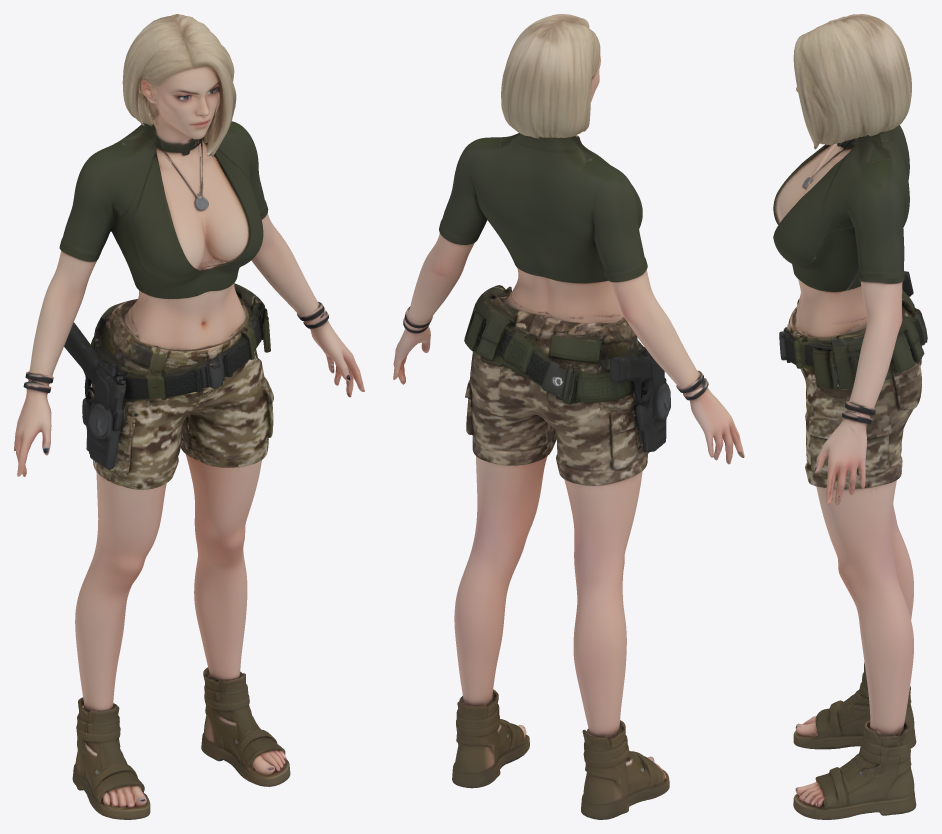
File: modern_tactical_female_character.glb
3 views of the same model, side by side, from view 1: azimuth 30°, elevation 25°; view 2: azimuth 150°, elevation 25°; view 3: azimuth 270°, elevation 25° (orthographic).
Parts seen in each view (by area): view 1: Object_4, Object_5, Object_6; view 2: Object_5, Object_4, Object_6; view 3: Object_5, Object_4, Object_6.
Part boxes in pixels (left/top/right/bottom): Object_4: left=14, top=32, right=339, bottom=819; Object_5: left=14, top=14, right=334, bottom=797; Object_6: left=15, top=17, right=364, bottom=815; Object_5: left=393, top=14, right=722, bottom=819; Object_4: left=398, top=14, right=730, bottom=788; Object_6: left=393, top=14, right=744, bottom=811; Object_5: left=814, top=14, right=927, bottom=819; Object_4: left=773, top=22, right=924, bottom=819; Object_6: left=804, top=15, right=927, bottom=819.
Size of the model in its own units: 0.9074 by 1.9 by 0.3503.
1 material, 1 textured.
